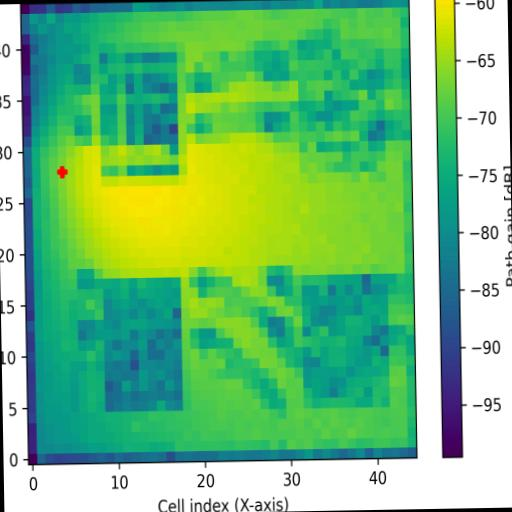Concrete: (298, 39, 387, 175)
Glass: (98, 51, 180, 176)
Metal: (302, 274, 390, 408)
Wood: (102, 278, 183, 412)
